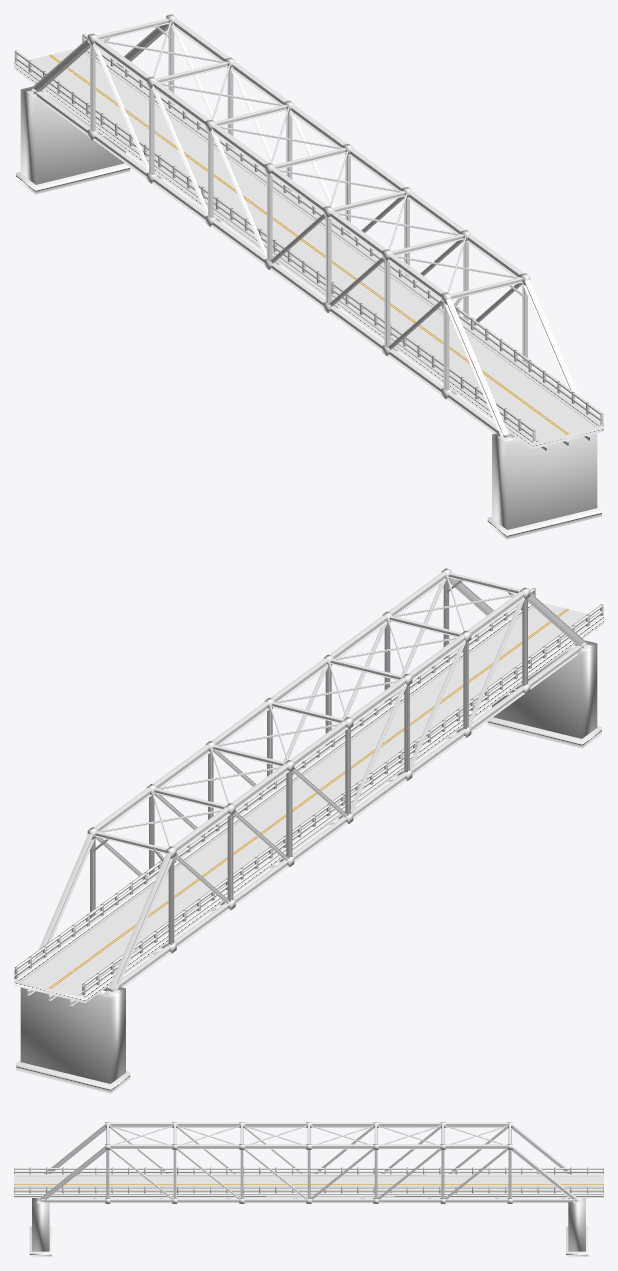
The model's file is bridge-lod1.fbx.
The picture shows the model from 3 angles, top to bottom: view 1: azimuth 30°, elevation 25°; view 2: azimuth 150°, elevation 25°; view 3: azimuth 270°, elevation 25°; orthographic projection. The views are drawn at different scales.
Parts seen in each view (by area): view 1: BridgeStructure_LOD1.001, BridgeDeck_LOD1.001, BridgeSupports_LOD1.001, BridgeParapets_LOD1.001, BridgeRoadPaint_LOD1.001, BridgeDetails_LOD1.001; view 2: BridgeStructure_LOD1.001, BridgeDeck_LOD1.001, BridgeSupports_LOD1.001, BridgeParapets_LOD1.001, BridgeRoadPaint_LOD1.001, BridgeDetails_LOD1.001; view 3: BridgeStructure_LOD1.001, BridgeDeck_LOD1.001, BridgeParapets_LOD1.001, BridgeSupports_LOD1.001, BridgeRoadPaint_LOD1.001, BridgeDetails_LOD1.001.
Boxes of the visible parts, x1,y1,x2,y2 form: BridgeStructure_LOD1.001: [30, 18, 590, 452]; BridgeDeck_LOD1.001: [14, 48, 603, 448]; BridgeSupports_LOD1.001: [16, 86, 601, 539]; BridgeParapets_LOD1.001: [14, 34, 603, 441]; BridgeRoadPaint_LOD1.001: [49, 52, 596, 441]; BridgeDetails_LOD1.001: [26, 14, 574, 441]; BridgeStructure_LOD1.001: [27, 572, 587, 1006]; BridgeDeck_LOD1.001: [14, 602, 603, 1002]; BridgeSupports_LOD1.001: [16, 640, 601, 1093]; BridgeParapets_LOD1.001: [14, 588, 603, 995]; BridgeRoadPaint_LOD1.001: [21, 606, 568, 995]; BridgeDetails_LOD1.001: [43, 568, 591, 995]; BridgeStructure_LOD1.001: [39, 1122, 578, 1203]; BridgeDeck_LOD1.001: [14, 1173, 603, 1197]; BridgeParapets_LOD1.001: [14, 1167, 603, 1193]; BridgeSupports_LOD1.001: [29, 1198, 588, 1256]; BridgeRoadPaint_LOD1.001: [14, 1176, 603, 1184]; BridgeDetails_LOD1.001: [37, 1122, 580, 1203].
Size of the model in its own units: 9.3 by 18.05 by 88.
